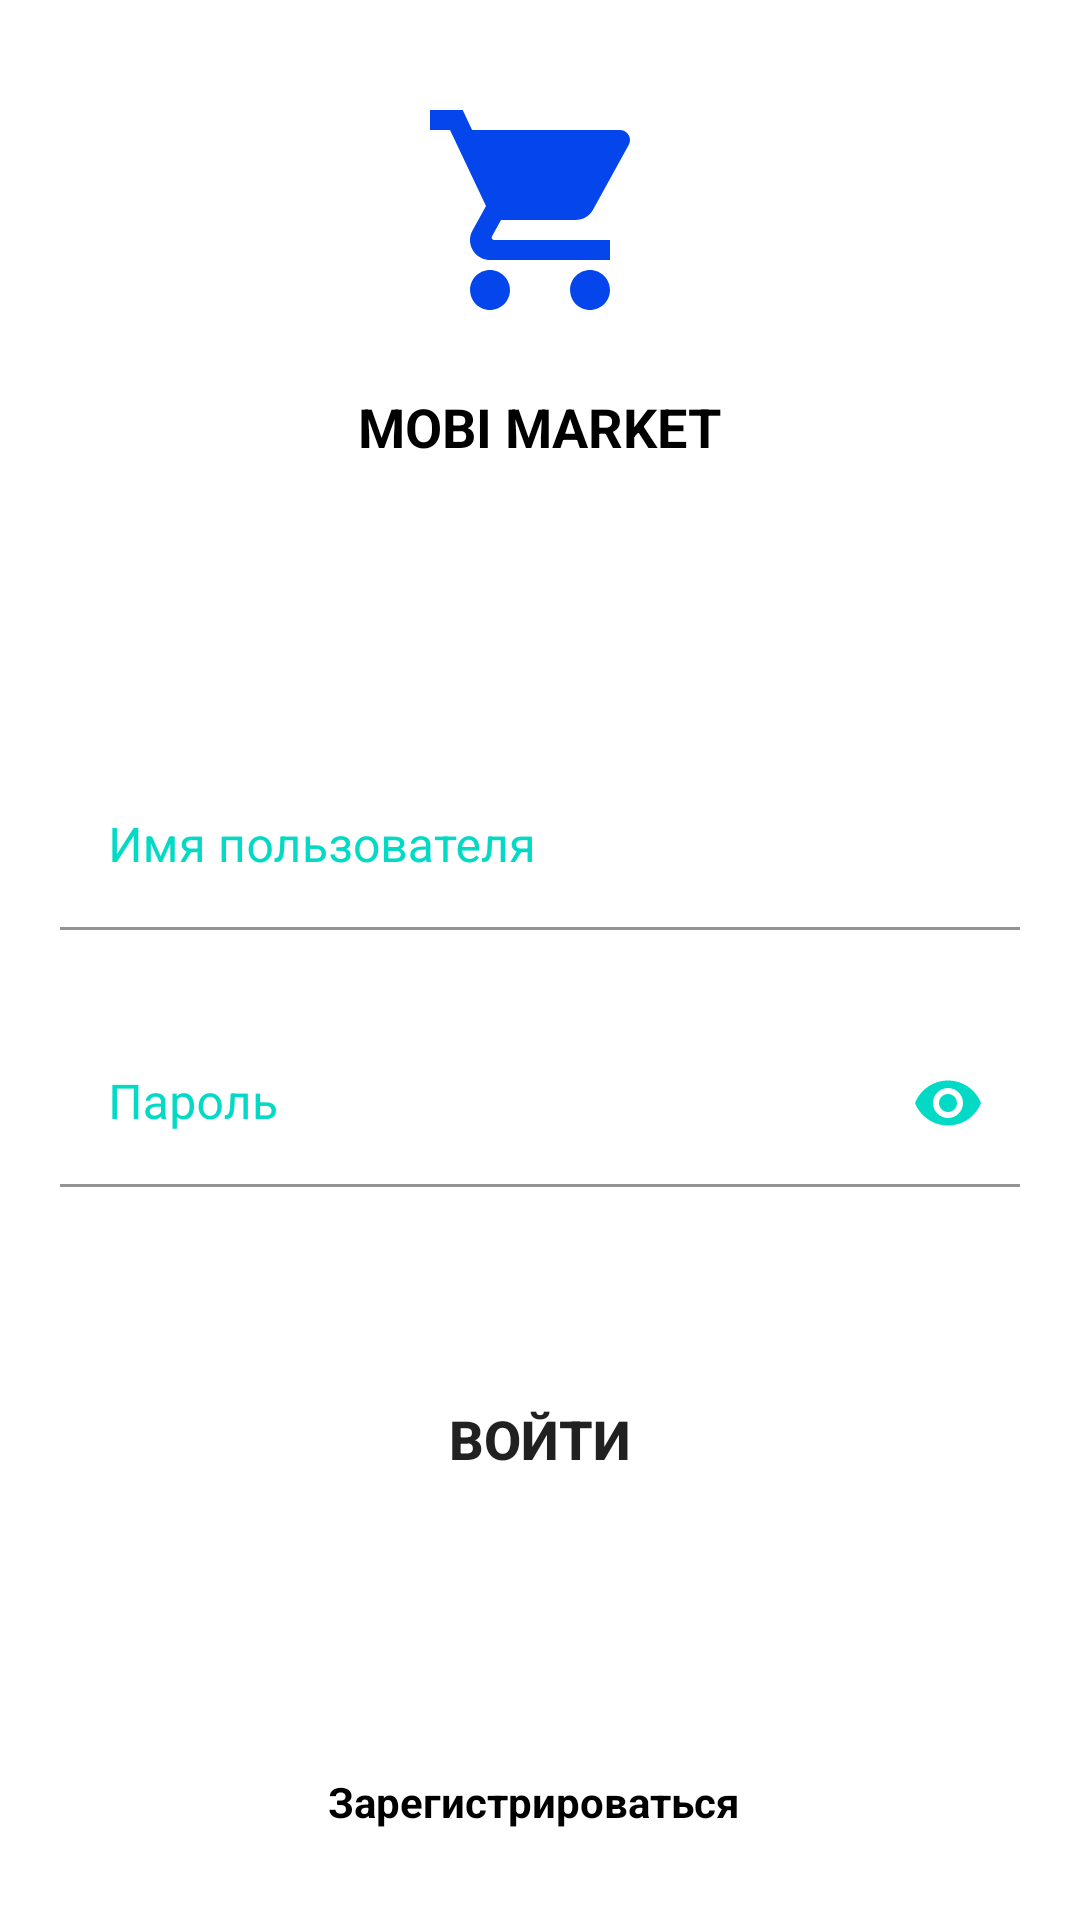

Screen size 1080px x 1920px. Icon name, then its center in pixels as (x,y):
shopping cart: (530,210)
